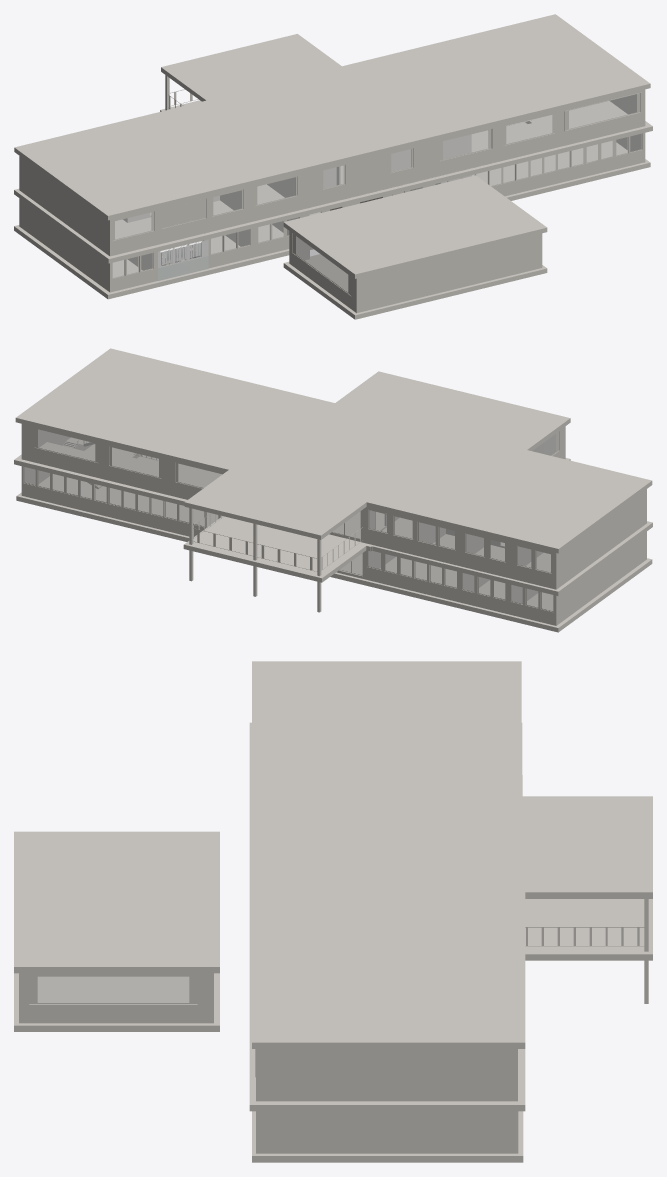
File: iot_walk.glb
The picture shows the model from 3 angles, top to bottom: view 1: azimuth 30°, elevation 25°; view 2: azimuth 150°, elevation 25°; view 3: azimuth 270°, elevation 25°; orthographic projection. The views are drawn at different scales.
Visible parts, largest first — view 1: BEYOND_L2_SLAB, BEYOND_L1_WALL, BEYOND_L0_WALL, BEYOND_L0_SLAB, BEYOND_L1_SLAB, BEYOND_L1_GLASS, BEYOND_L0_GLASS, UPPER_in_zone, BEYOND_L1_FRAME, BEYOND_L0_FRAME, BAKE_wall_south, BEYOND_L1_OTHER (+2 smaller); view 2: BEYOND_L2_SLAB, BEYOND_L1_WALL, BEYOND_L1_SLAB, BEYOND_L0_WALL, BEYOND_L0_SLAB, BEYOND_L1_GLASS, BEYOND_L0_GLASS, UPPER_in_zone, BEYOND_L1_FRAME, BEYOND_L0_FRAME, BEYOND_L1_OTHER, BEYOND_L1_STAIR (+3 smaller); view 3: BEYOND_L2_SLAB, BEYOND_L0_WALL, BEYOND_L1_WALL, BEYOND_L1_SLAB, BEYOND_L0_SLAB, UPPER_in_zone, BEYOND_L0_GLASS, BEYOND_L0_FRAME.
Part boxes in pixels (x1,y1,x2,y2): BEYOND_L2_SLAB: (14, 14, 650, 278); BEYOND_L1_WALL: (19, 89, 645, 256); BEYOND_L0_WALL: (19, 133, 645, 313); BEYOND_L0_SLAB: (14, 122, 650, 319); BEYOND_L1_SLAB: (14, 100, 652, 263); BEYOND_L1_GLASS: (115, 94, 636, 238); BEYOND_L0_GLASS: (113, 134, 641, 291); UPPER_in_zone: (121, 163, 208, 244); BEYOND_L1_FRAME: (113, 93, 640, 240); BEYOND_L0_FRAME: (112, 134, 642, 295); BAKE_wall_south: (158, 232, 208, 280); BEYOND_L1_OTHER: (112, 89, 641, 240); BEYOND_L2_SLAB: (15, 348, 652, 553); BEYOND_L1_WALL: (21, 424, 646, 589); BEYOND_L1_SLAB: (14, 442, 652, 596); BEYOND_L0_WALL: (21, 426, 646, 625); BEYOND_L0_SLAB: (16, 444, 652, 632); BEYOND_L1_GLASS: (38, 429, 550, 572); BEYOND_L0_GLASS: (24, 434, 555, 610); UPPER_in_zone: (512, 457, 598, 495); BEYOND_L1_FRAME: (34, 428, 551, 573); BEYOND_L0_FRAME: (23, 431, 558, 611); BEYOND_L1_OTHER: (34, 428, 551, 573); BEYOND_L1_STAIR: (136, 454, 500, 570); BEYOND_L2_SLAB: (14, 661, 652, 1048); BEYOND_L0_WALL: (19, 973, 518, 1153); BEYOND_L1_WALL: (256, 1049, 517, 1101); BEYOND_L1_SLAB: (249, 722, 652, 1111); BEYOND_L0_SLAB: (14, 775, 523, 1162); UPPER_in_zone: (256, 697, 362, 733); BEYOND_L0_GLASS: (38, 977, 188, 1002); BEYOND_L0_FRAME: (29, 976, 197, 1003).
Bounding box in the file's own units: 38.22 × 5.6 × 27.
Materials: 11 (8 with a texture image).
